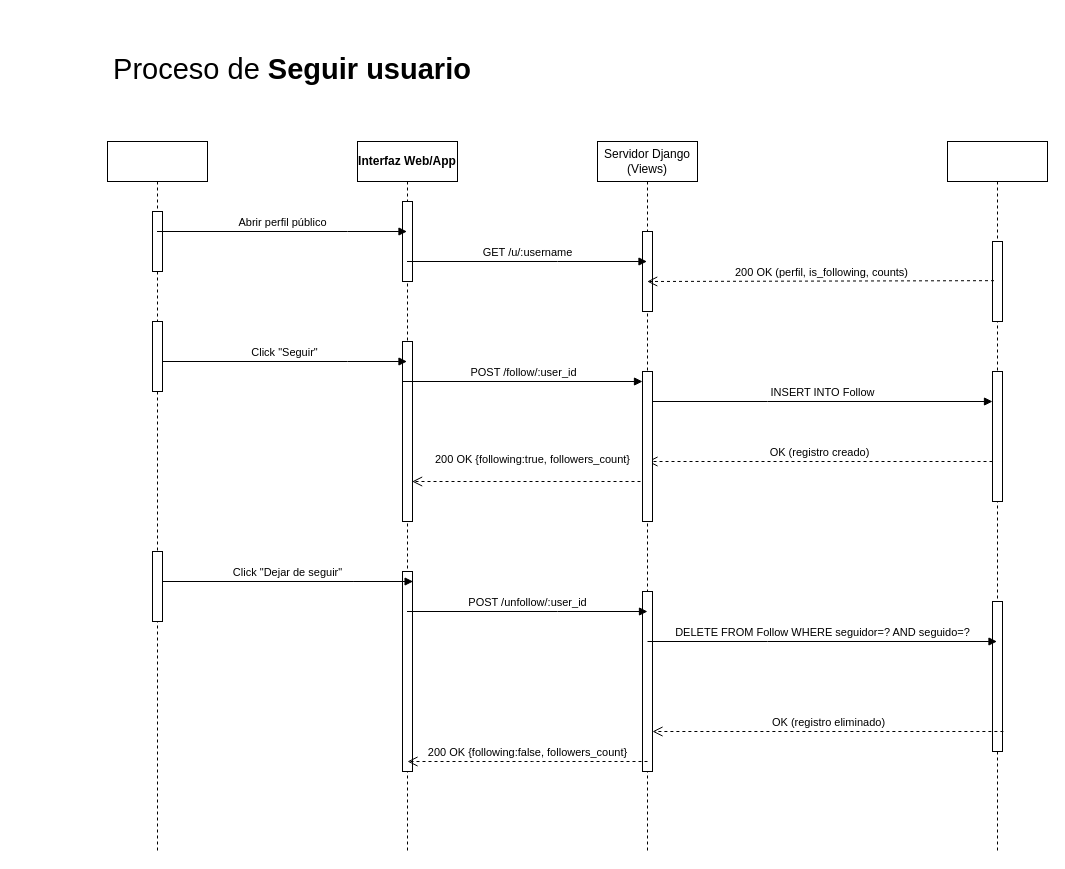
Image size: 1065x869. Some labels were removed from this diagram. The box of each missing label's shape, as (x1, y1, x2, y2) in pixels:
BD My SQL: (946, 140, 1048, 852)
Usuario: (106, 140, 208, 852)
